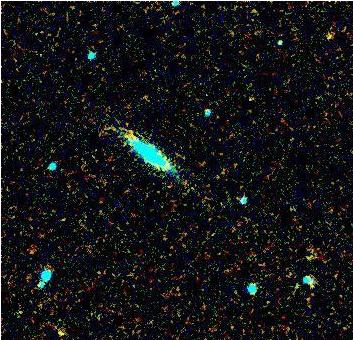star: (312, 21, 342, 51)
